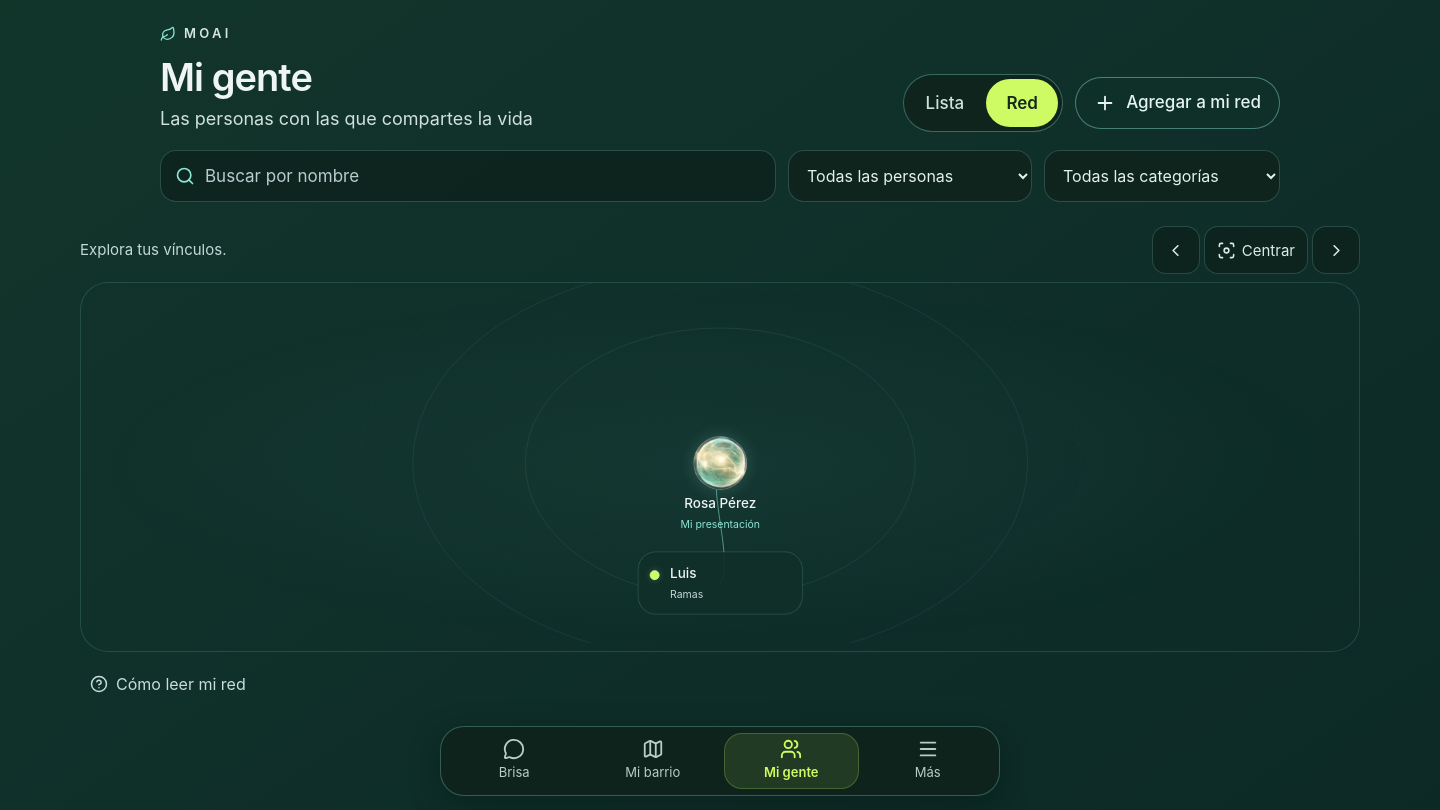
Test: Red orbital y ficha personal › invitar usa el flujo de aceptación existente y no añade pertenencia al contacto
The width and height of the screenshot is (1440, 810).
Click the button "Luis Ramas" at point(720, 583), box x1=638 y1=552 x2=802 y2=615
(page scrolled)
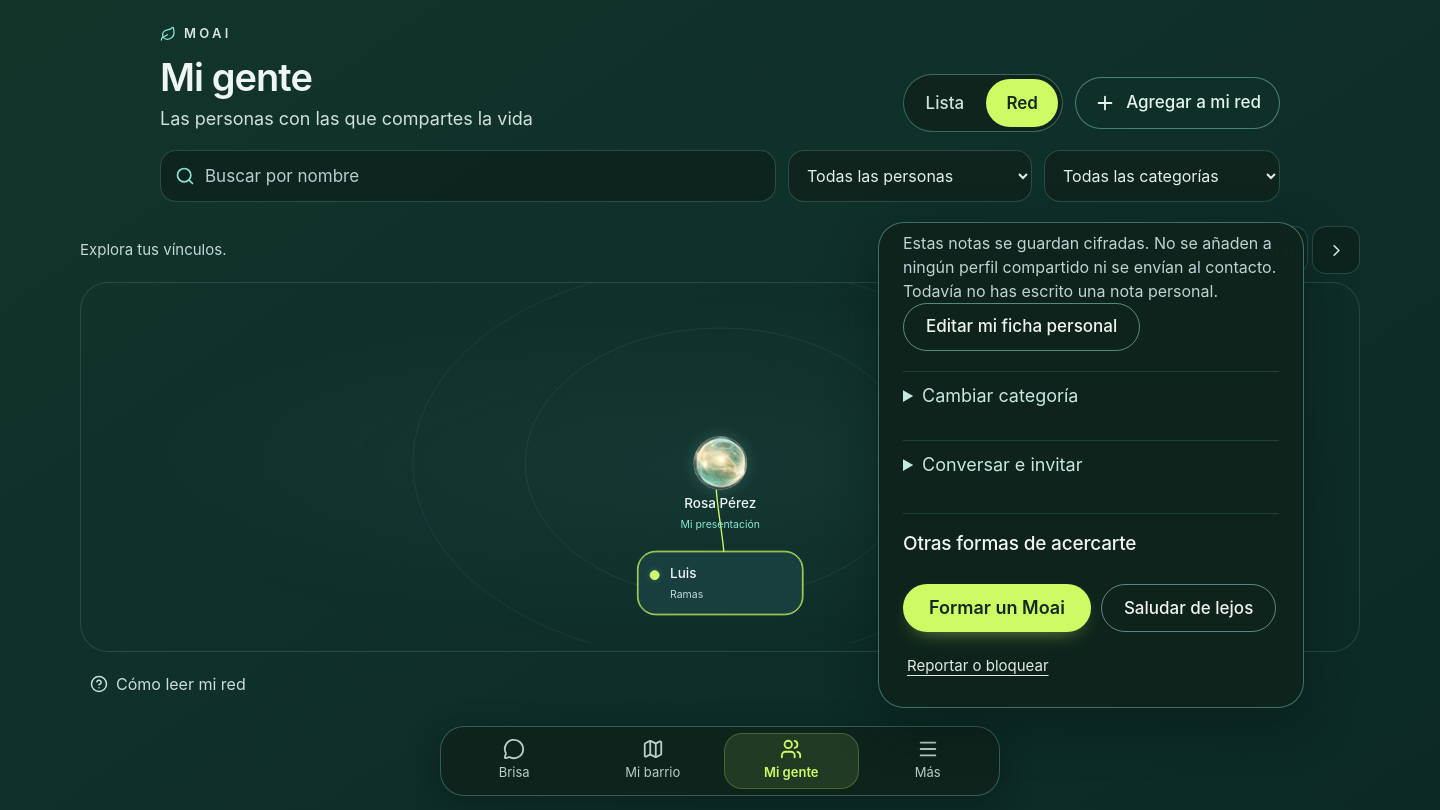
Result: the button "Editar mi ficha personal" is shown at x1=903 y1=303 x2=1140 y2=351
Click the heading "Conversar e invitar" at point(1002, 464), box x1=922 y1=454 x2=1082 y2=475
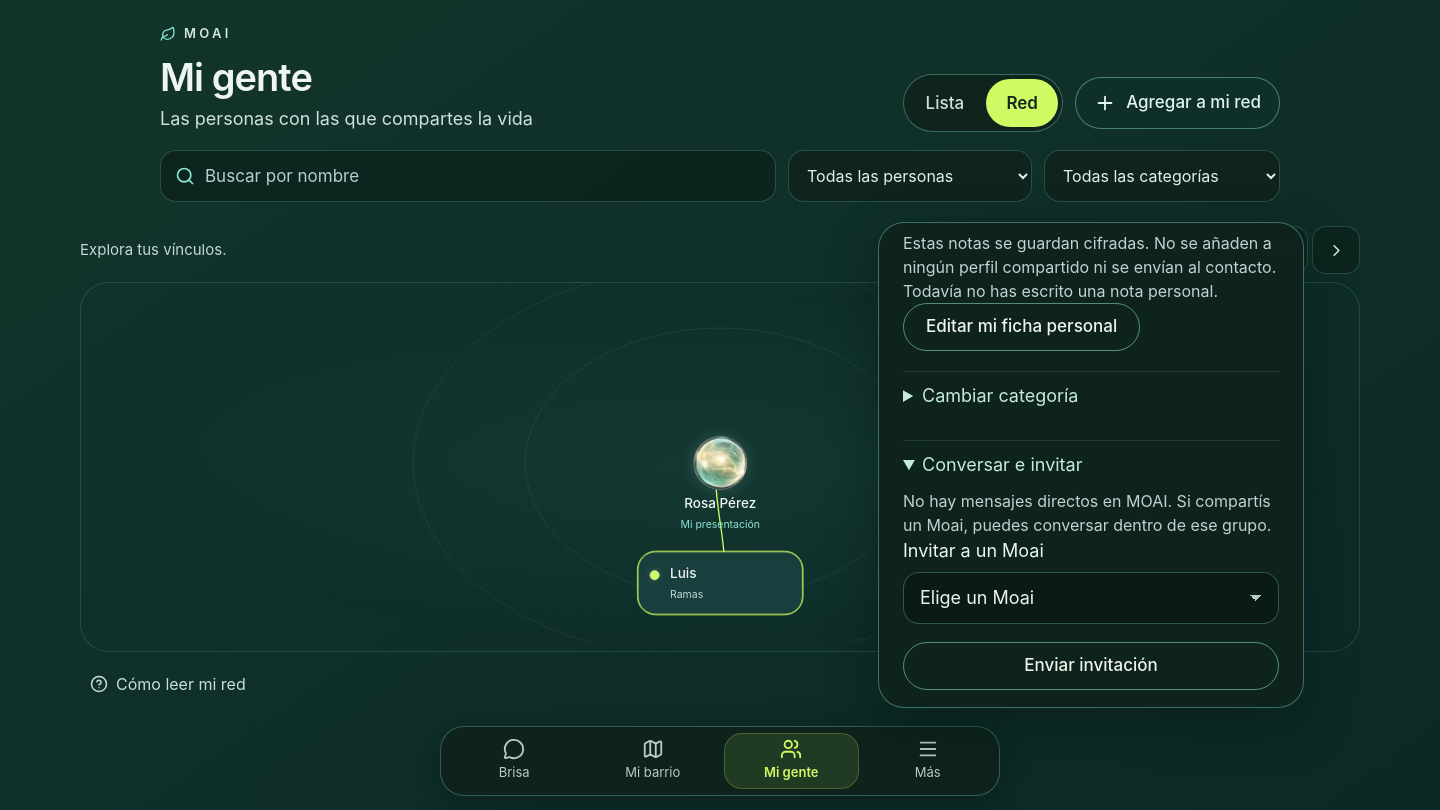
Select "Los del parque" in the dropdown labelled "Invitar a un Moai" at point(1091, 598), box x1=903 y1=572 x2=1279 y2=624
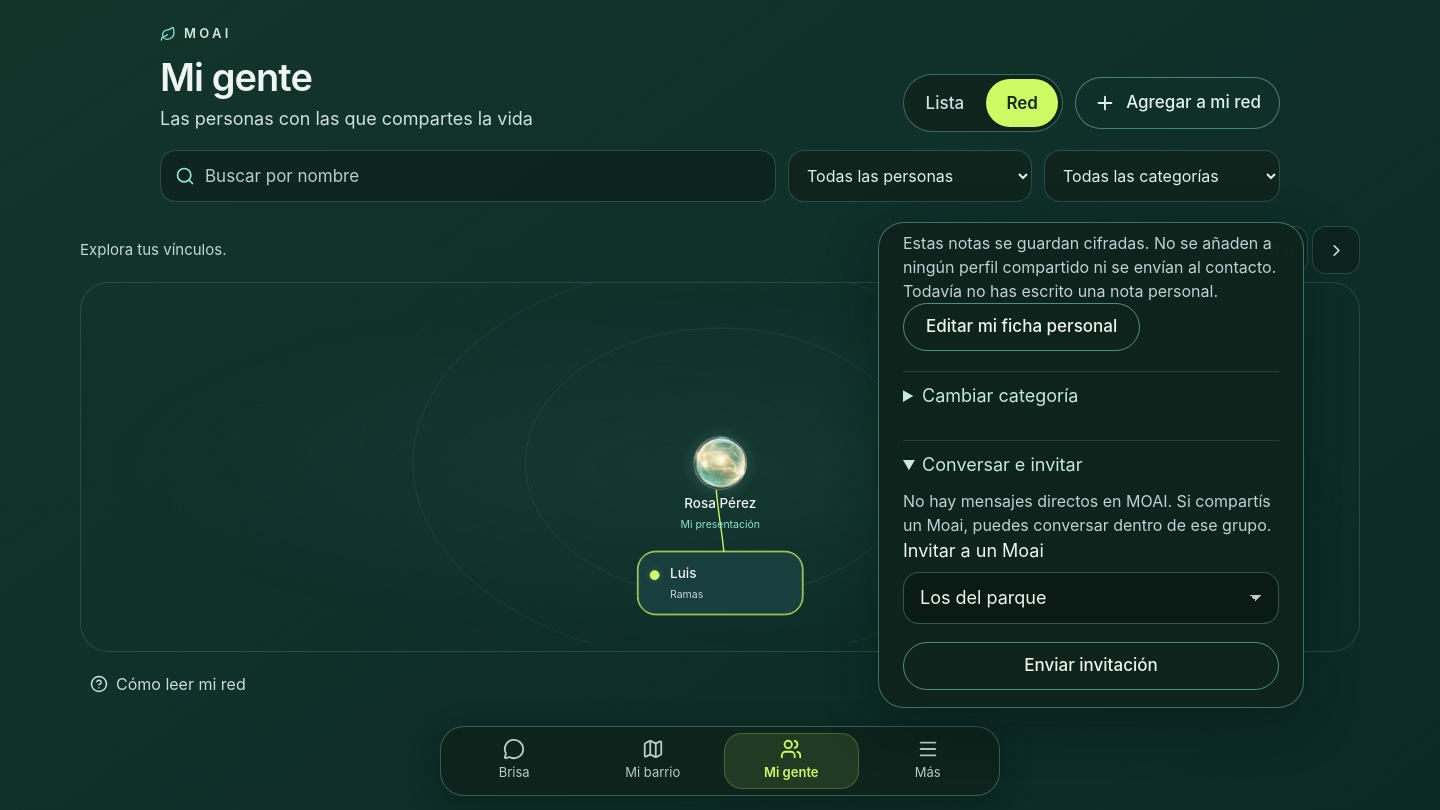
Click the button "Enviar invitación" at point(1091, 666), box x1=903 y1=642 x2=1279 y2=690
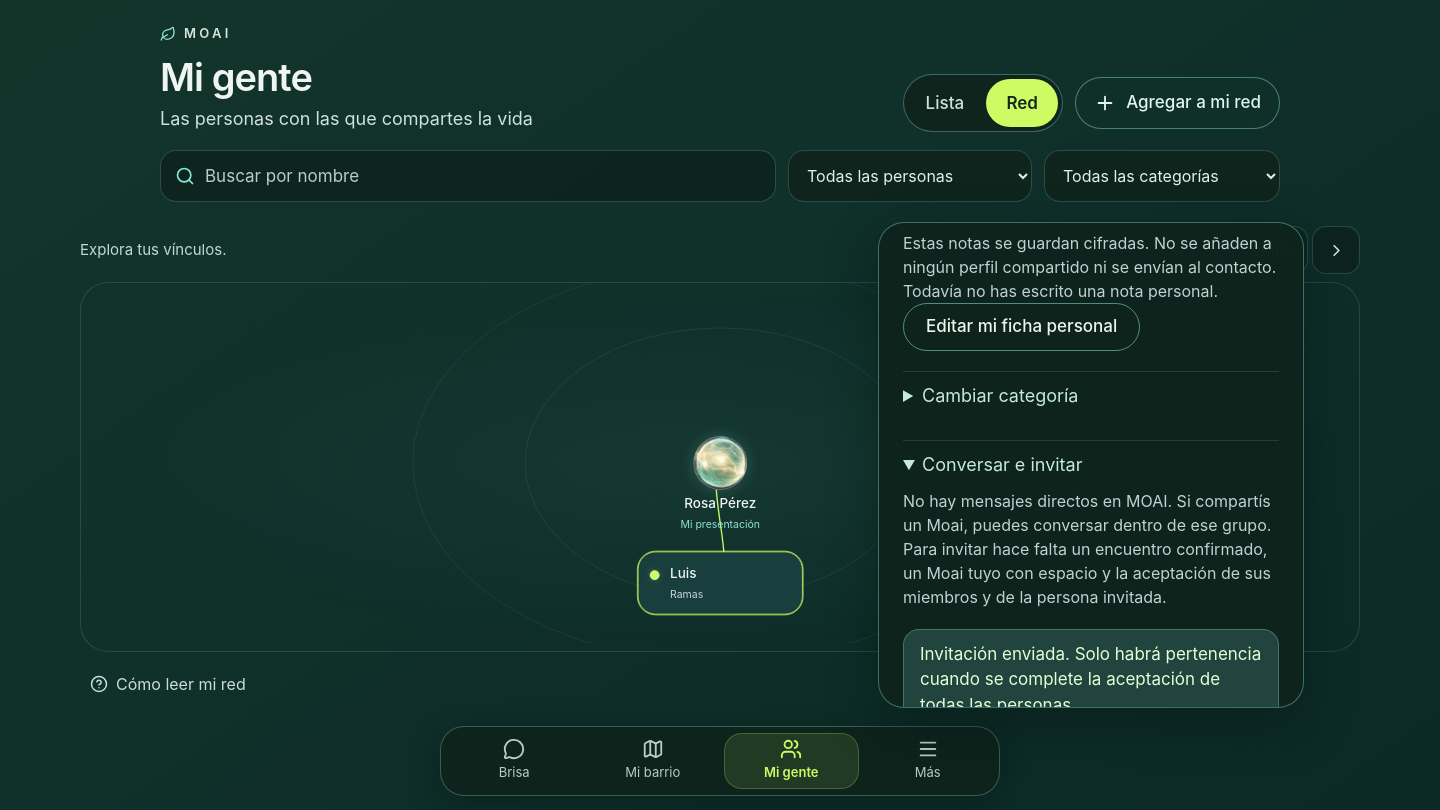
Result: the text "Invitación enviada" is shown at x1=920 y1=644 x2=1261 y2=708
